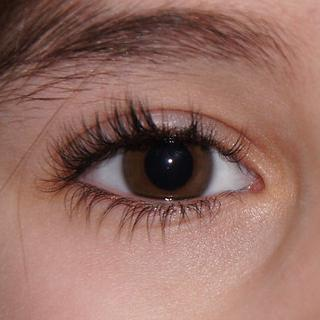pupil: (144, 139, 194, 189)
